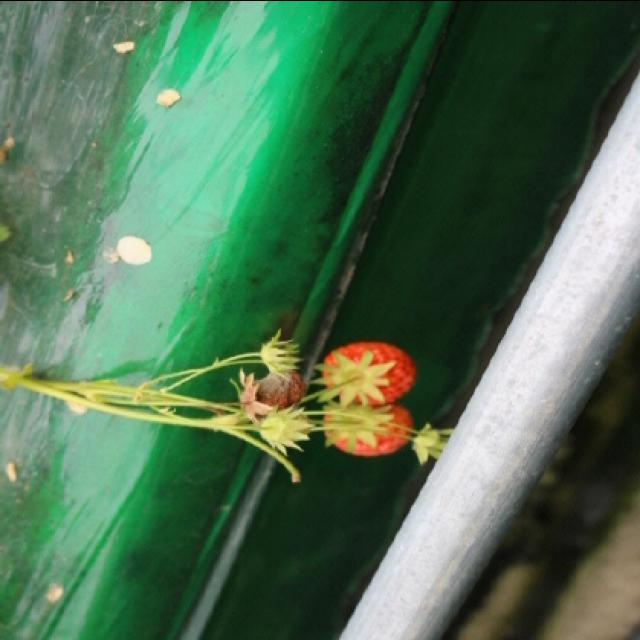Gray Mold: (230, 366, 305, 421)
